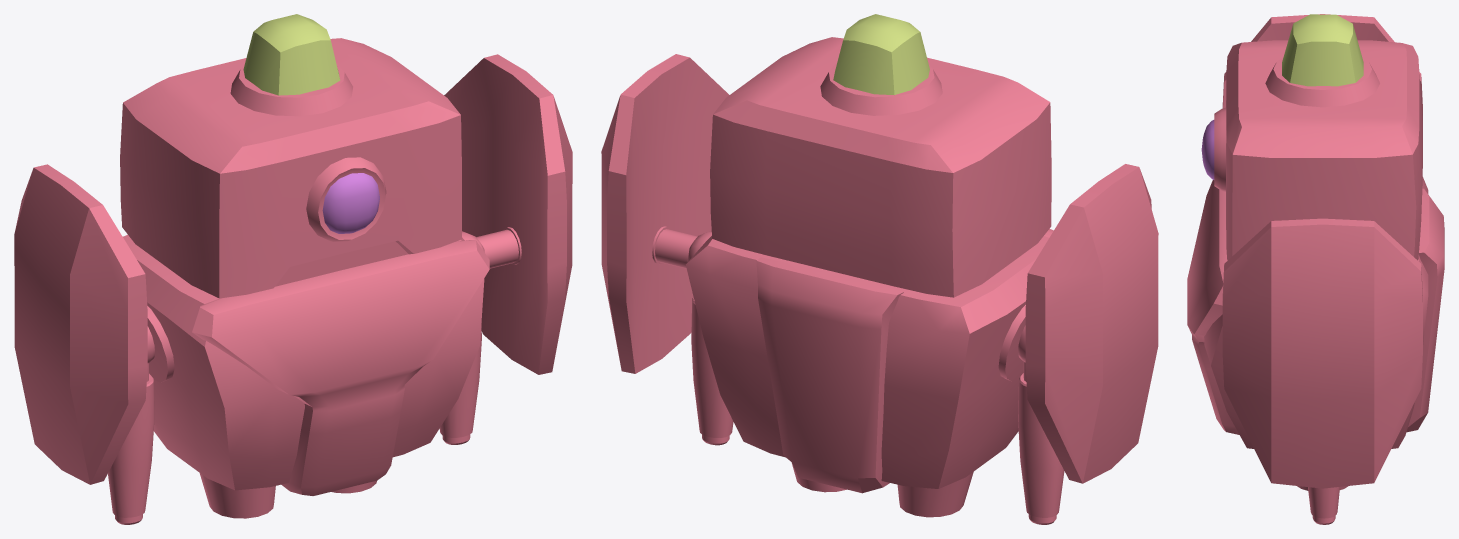
Rendered from Police_big.fbx.
The picture shows the model from 3 angles, left to right: view 1: azimuth 30°, elevation 25°; view 2: azimuth 150°, elevation 25°; view 3: azimuth 270°, elevation 25°; orthographic projection. The views are drawn at different scales.
Parts seen in each view (by area): view 1: head_low, body, shield, hand, leg; view 2: head_low, body, shield, hand, leg; view 3: shield, head_low, body, hand.
Part boxes in pixels (box(x1,y1,x2,y2)): head_low: box(120, 14, 461, 298); body: box(123, 234, 489, 495); shield: box(14, 54, 572, 484); hand: box(108, 231, 484, 524); leg: box(199, 473, 376, 518); head_low: box(710, 14, 1051, 297); body: box(685, 228, 1053, 493); shield: box(601, 54, 1158, 483); hand: box(687, 230, 1064, 524); leg: box(791, 462, 973, 517); shield: box(1222, 14, 1422, 488); head_low: box(1201, 14, 1422, 260); body: box(1187, 177, 1444, 448); hand: box(1308, 487, 1339, 524).
Size of the model in its own units: 0.3387 by 0.3015 by 0.1608.
